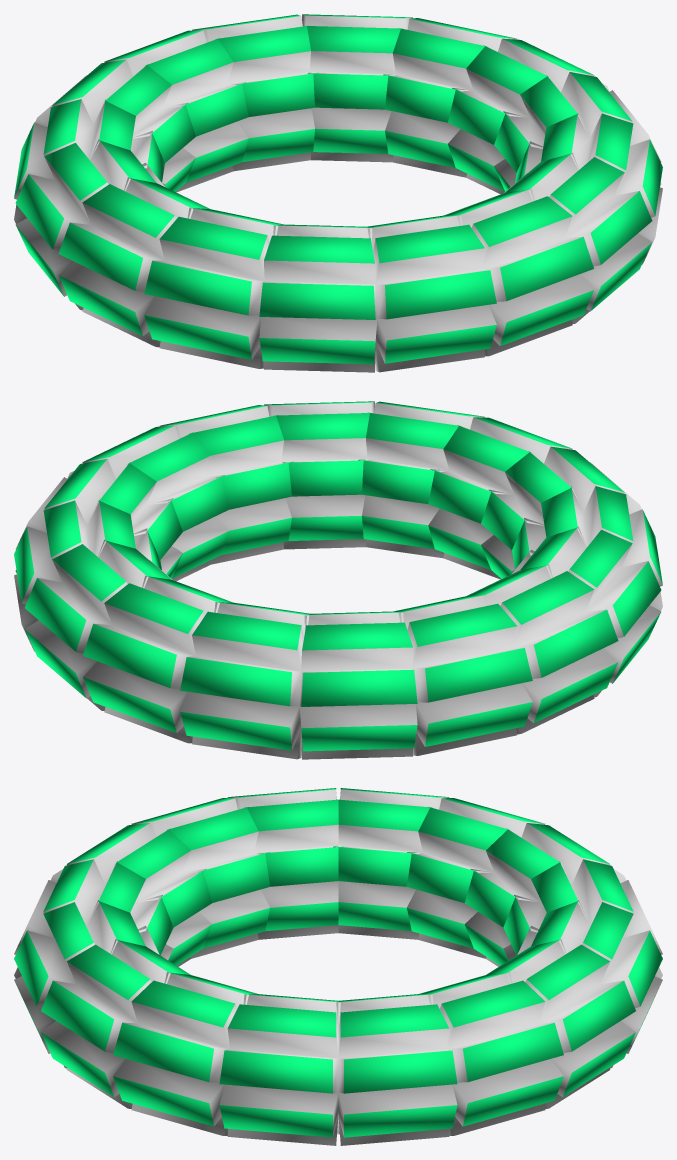
The model's file is alien_torus.obj.
3 renders of one model, top to bottom at view 1: azimuth 30°, elevation 25°; view 2: azimuth 150°, elevation 25°; view 3: azimuth 270°, elevation 25°, orthographic.
Visible parts, largest first — view 1: torus1_outer faces, torus1_default; view 2: torus1_outer faces, torus1_default; view 3: torus1_outer faces, torus1_default.
Part boxes in pixels (x1,y1,x2,y2): torus1_outer faces: [14, 14, 662, 364]; torus1_default: [14, 14, 662, 372]; torus1_outer faces: [14, 401, 662, 751]; torus1_default: [14, 401, 662, 759]; torus1_outer faces: [14, 788, 662, 1137]; torus1_default: [14, 789, 662, 1145].
Bounding box in the file's own units: 3.64 × 0.8177 × 3.64.
